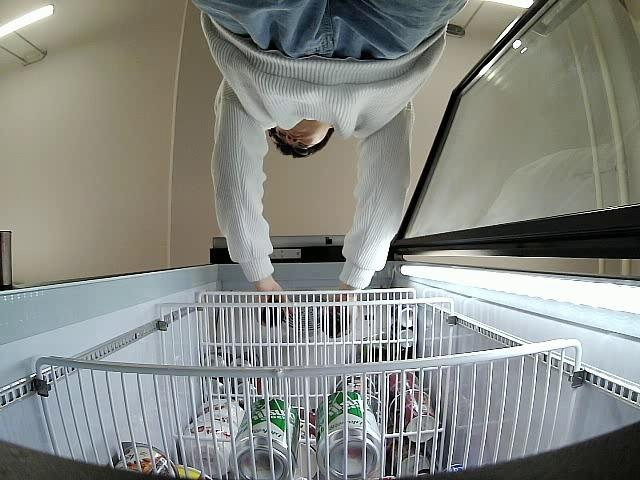00_hand: (254, 274, 296, 318)
17_vita500: (260, 298, 288, 326), (321, 307, 346, 337)
